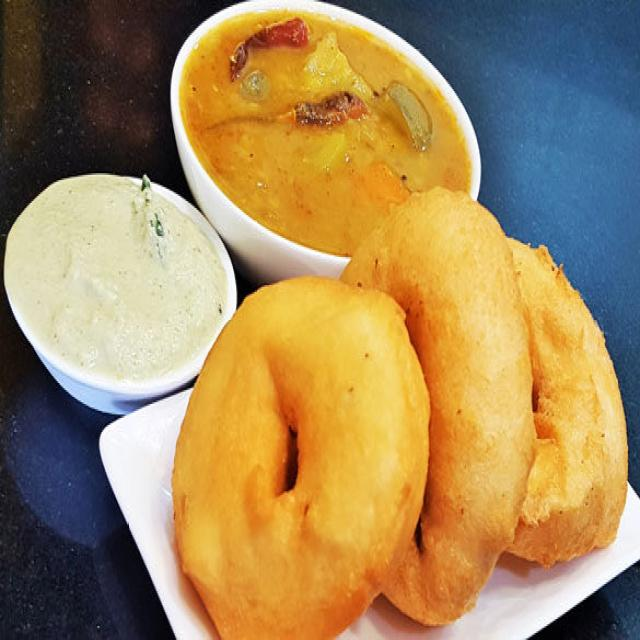MEDU VADA: (164, 275, 433, 638), (337, 191, 540, 626), (508, 241, 633, 576)
